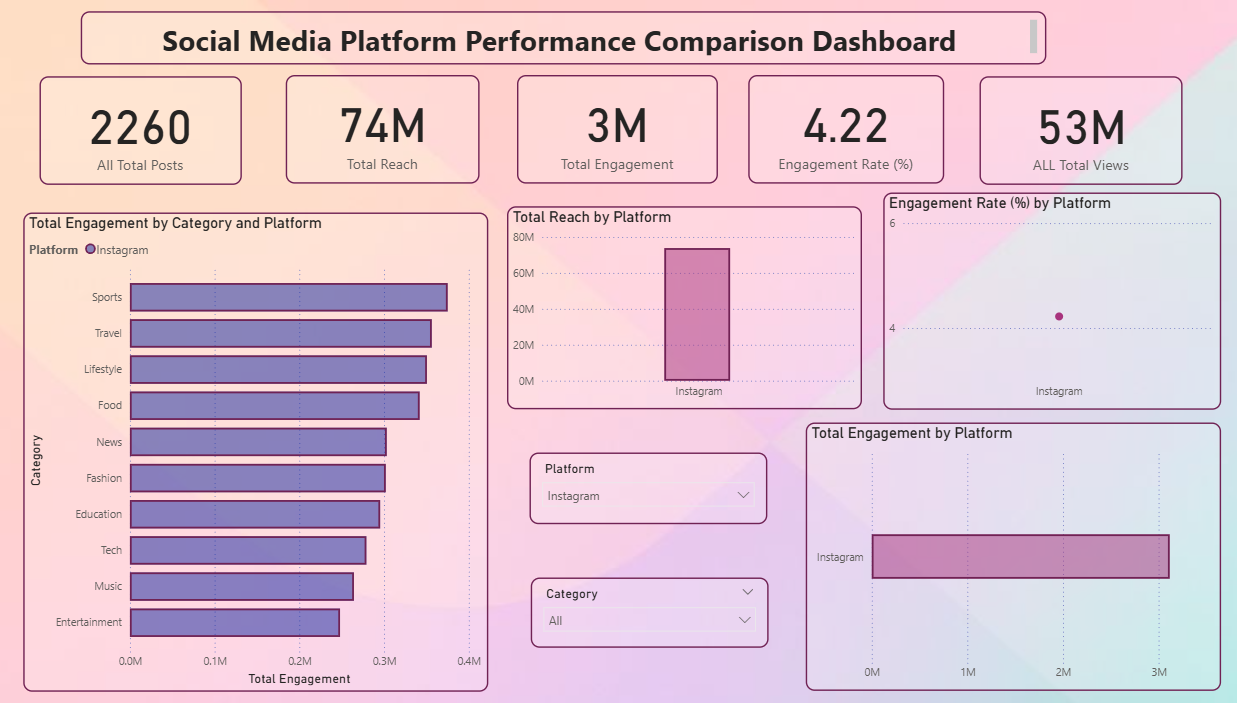

Layout of this report page (visuals, bound fields, positions):
{"tool":"powerbi","page":{"name":"Comparison Dashboard","canvas":[1400,800],"ordinal":7},"visuals":[{"type":"textbox","box":[94.1,12.1,1088.2,60.3],"z":0},{"type":"card","fields":{"Values":["contentdata.All Total Posts"]},"box":[47.2,86.1,227.8,122.2],"z":1000},{"type":"card","fields":{"Values":["contentdata.Total Reach"]},"box":[325,84.7,218.1,122.2],"z":2000},{"type":"card","fields":{"Values":["contentdata.Total Engagement"]},"box":[586.1,84.7,226.4,122.2],"z":3000},{"type":"card","fields":{"Values":["contentdata.Engagement Rate (%)"]},"box":[845.8,84.7,220.8,122.2],"z":4000},{"type":"card","fields":{"Values":["contentdata.ALL Total Views"]},"box":[1106.9,86.1,229.2,122.2],"z":5000},{"type":"clusteredColumnChart","fields":{"Category":["contentdata.Platform"],"Y":["contentdata.Total Reach"]},"box":[575,231.9,400,229.2],"z":6000},{"type":"clusteredBarChart","fields":{"Category":["contentdata.Platform"],"Y":["contentdata.Total Engagement"]},"box":[911.1,476.4,468.1,302.8],"z":7000},{"type":"lineChart","fields":{"Category":["contentdata.Platform"],"Y":["contentdata.Engagement Rate (%)"]},"box":[998.6,216.7,380.6,244.4],"z":8000},{"type":"barChart","fields":{"Category":["contentdata.Category"],"Y":["contentdata.Total Engagement"],"Series":["contentdata.Platform"]},"box":[29.2,238.9,523.6,540.3],"z":9000},{"type":"slicer","fields":{"Values":["contentdata.Platform"]},"box":[600,509.7,268.1,80.6],"z":10000},{"type":"slicer","fields":{"Values":["contentdata.Category"]},"box":[601.4,651.4,268.1,79.2],"z":11000}]}

Visuals, with their boxes in screenshot pixels (x1, y1, x2, y2), scaled from the page's 1400x800 canvas onto the 1237x703 screenshot:
textbox: [x1=83, y1=11, x2=1045, y2=64]
card - contentdata.All Total Posts: [x1=42, y1=76, x2=243, y2=183]
card - contentdata.Total Reach: [x1=287, y1=74, x2=480, y2=182]
card - contentdata.Total Engagement: [x1=518, y1=74, x2=718, y2=182]
card - contentdata.Engagement Rate (%): [x1=747, y1=74, x2=942, y2=182]
card - contentdata.ALL Total Views: [x1=978, y1=76, x2=1181, y2=183]
clusteredColumnChart - contentdata.Platform x contentdata.Total Reach: [x1=508, y1=204, x2=861, y2=405]
clusteredBarChart - contentdata.Platform x contentdata.Total Engagement: [x1=805, y1=419, x2=1219, y2=685]
lineChart - contentdata.Platform x contentdata.Engagement Rate (%): [x1=882, y1=190, x2=1219, y2=405]
barChart - contentdata.Category x contentdata.Total Engagement: [x1=26, y1=210, x2=488, y2=685]
slicer - contentdata.Platform: [x1=530, y1=448, x2=767, y2=519]
slicer - contentdata.Category: [x1=531, y1=572, x2=768, y2=642]
